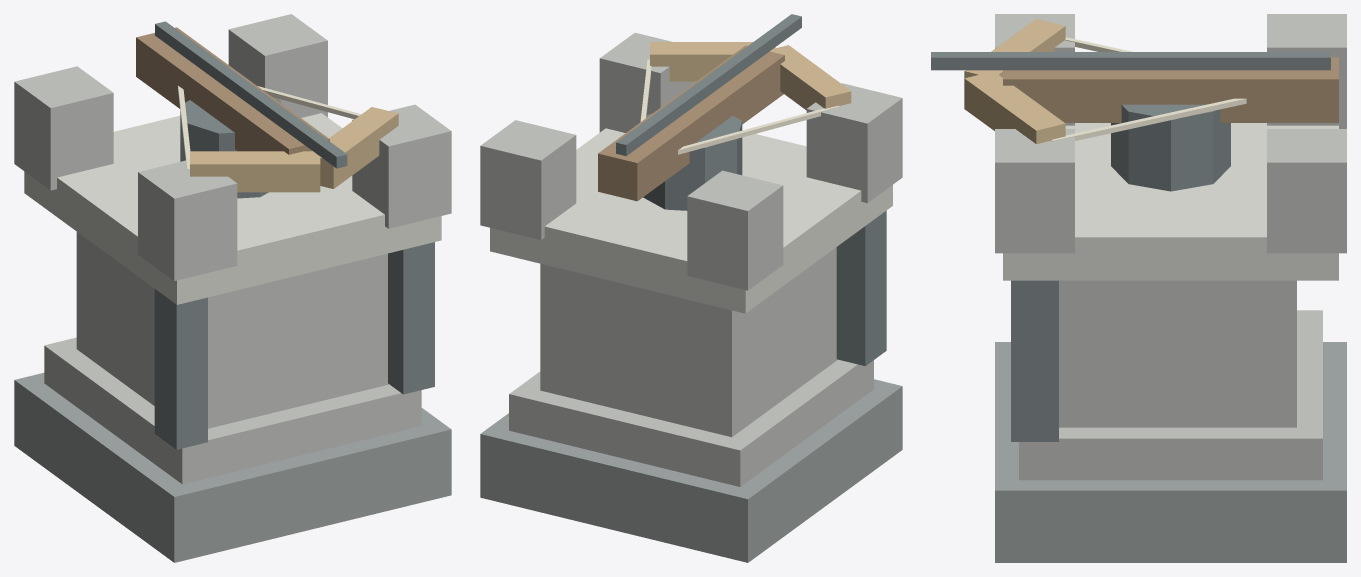
File: human_crossbow_t2.glb
3 views of the same model, side by side, from view 1: azimuth 30°, elevation 25°; view 2: azimuth 150°, elevation 25°; view 3: azimuth 270°, elevation 25° (orthographic). The views are drawn at different scales.
Parts seen in each view (by area): view 1: human_crossbow_t2_MAT_stone, human_crossbow_t2_MAT_dark, human_crossbow_t2_MAT_light, human_crossbow_t2_MAT_iron, human_crossbow_t2_MAT_edge, human_crossbow_t2_MAT_wood, human_crossbow_t2_MAT_white; view 2: human_crossbow_t2_MAT_stone, human_crossbow_t2_MAT_dark, human_crossbow_t2_MAT_light, human_crossbow_t2_MAT_iron, human_crossbow_t2_MAT_wood, human_crossbow_t2_MAT_edge, human_crossbow_t2_MAT_white; view 3: human_crossbow_t2_MAT_stone, human_crossbow_t2_MAT_dark, human_crossbow_t2_MAT_light, human_crossbow_t2_MAT_iron, human_crossbow_t2_MAT_wood, human_crossbow_t2_MAT_edge, human_crossbow_t2_MAT_white.
Part boxes in pixels (<box>): human_crossbow_t2_MAT_stone: <box>14,14,451,484</box>; human_crossbow_t2_MAT_dark: <box>14,373,451,562</box>; human_crossbow_t2_MAT_light: <box>24,113,441,304</box>; human_crossbow_t2_MAT_iron: <box>154,21,434,449</box>; human_crossbow_t2_MAT_edge: <box>190,107,398,192</box>; human_crossbow_t2_MAT_wood: <box>136,27,329,154</box>; human_crossbow_t2_MAT_white: <box>178,85,361,170</box>; human_crossbow_t2_MAT_stone: <box>480,32,902,486</box>; human_crossbow_t2_MAT_dark: <box>480,379,902,562</box>; human_crossbow_t2_MAT_light: <box>490,128,892,313</box>; human_crossbow_t2_MAT_iron: <box>616,14,886,366</box>; human_crossbow_t2_MAT_wood: <box>598,45,784,201</box>; human_crossbow_t2_MAT_edge: <box>650,42,851,110</box>; human_crossbow_t2_MAT_white: <box>640,59,839,154</box>; human_crossbow_t2_MAT_stone: <box>995,14,1346,480</box>; human_crossbow_t2_MAT_dark: <box>995,342,1346,562</box>; human_crossbow_t2_MAT_light: <box>1003,123,1338,280</box>; human_crossbow_t2_MAT_iron: <box>931,52,1330,441</box>; human_crossbow_t2_MAT_wood: <box>1003,57,1338,122</box>; human_crossbow_t2_MAT_edge: <box>964,19,1065,144</box>; human_crossbow_t2_MAT_white: <box>1051,37,1246,141</box>.
Size of the model in its own units: 0.88 by 1.2 by 1.04.
